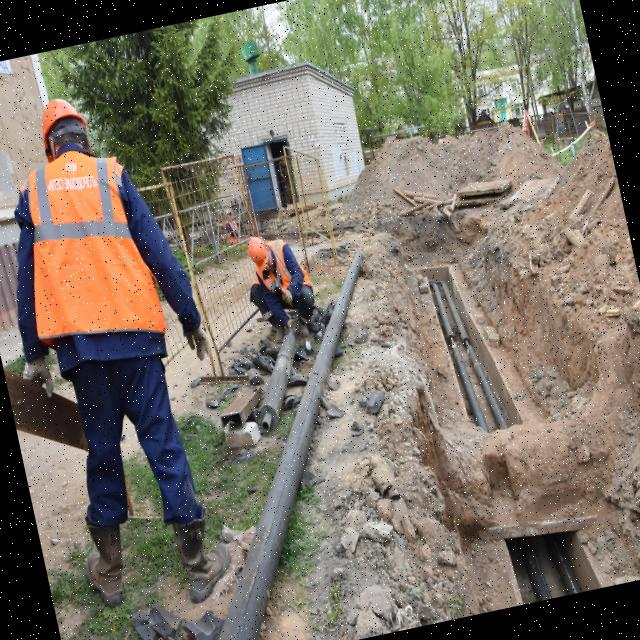Helmet: (246, 235, 279, 276)
Jacket: (21, 147, 169, 358), (255, 251, 304, 301)
